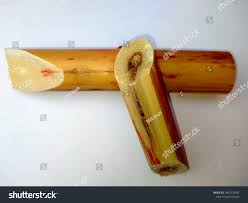Red-Rot: (2, 45, 235, 95), (113, 36, 191, 176)
